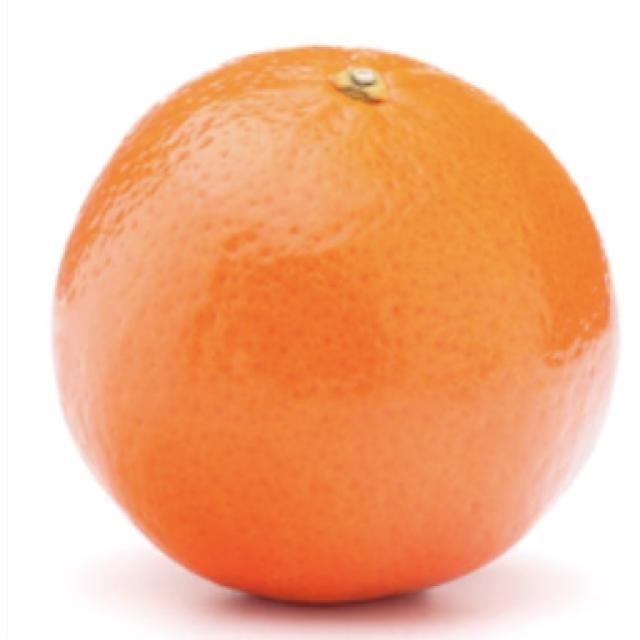Orange: (50, 43, 620, 606)
